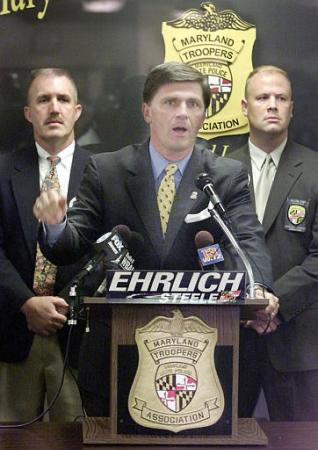Face: (145, 86, 214, 154), (23, 78, 82, 138), (244, 76, 294, 139)
